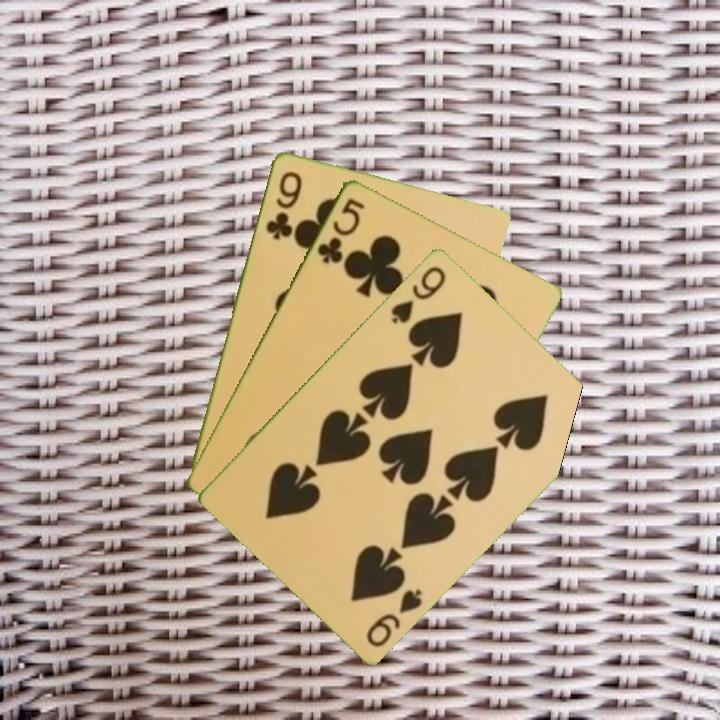5c: (313, 194, 368, 266)
9c: (262, 167, 305, 242)
9s: (362, 584, 426, 650), (387, 262, 449, 327)
